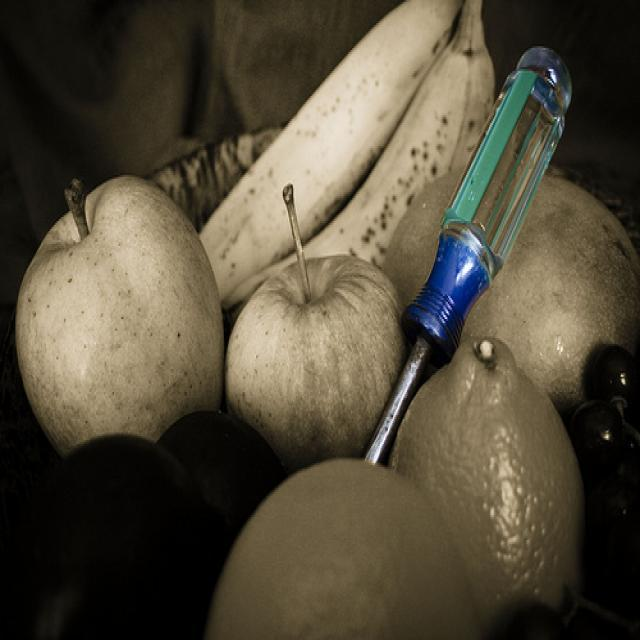screwdriver: (346, 26, 586, 496)
